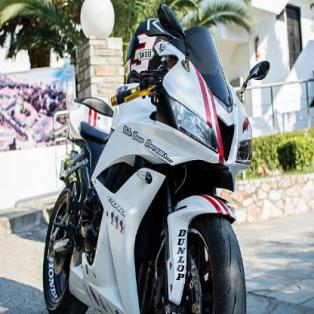Motocicleta: (43, 2, 274, 314)
